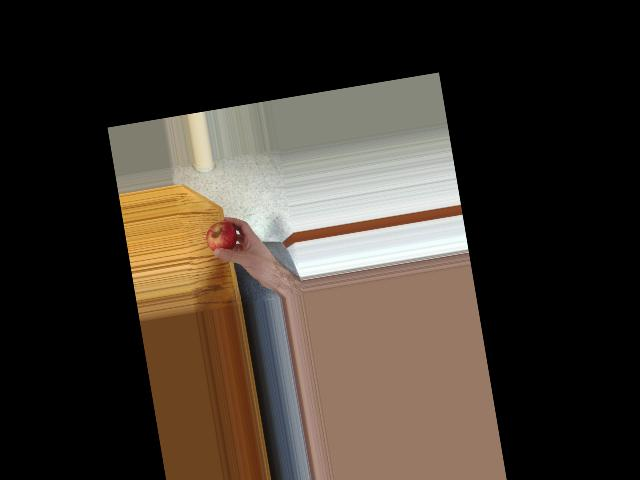apple: (203, 218, 241, 258)
